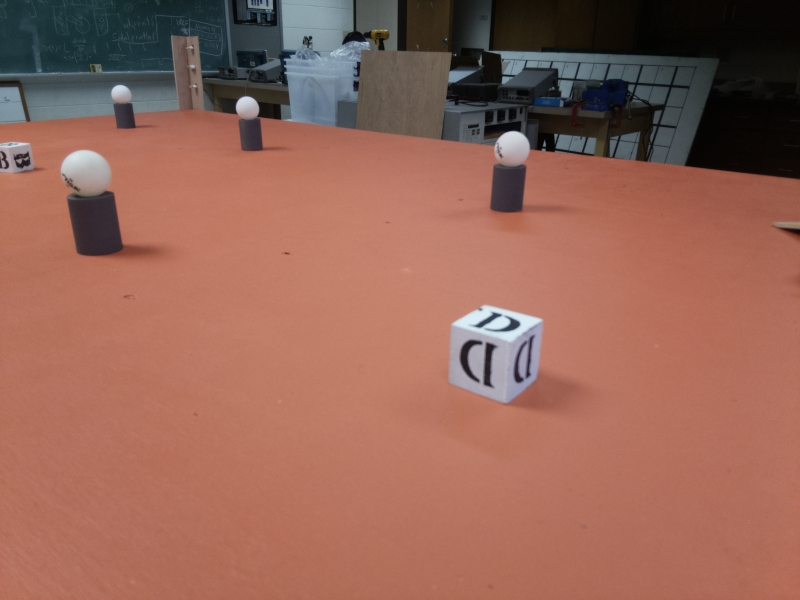blockB: (2, 138, 39, 177)
blockD: (453, 298, 548, 398)
corner: (173, 35, 200, 111)
obstacle: (62, 149, 117, 257), (491, 125, 532, 216), (234, 94, 263, 157), (113, 83, 133, 133)
